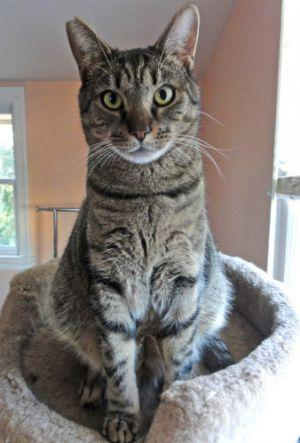bengal: (58, 1, 218, 173)
